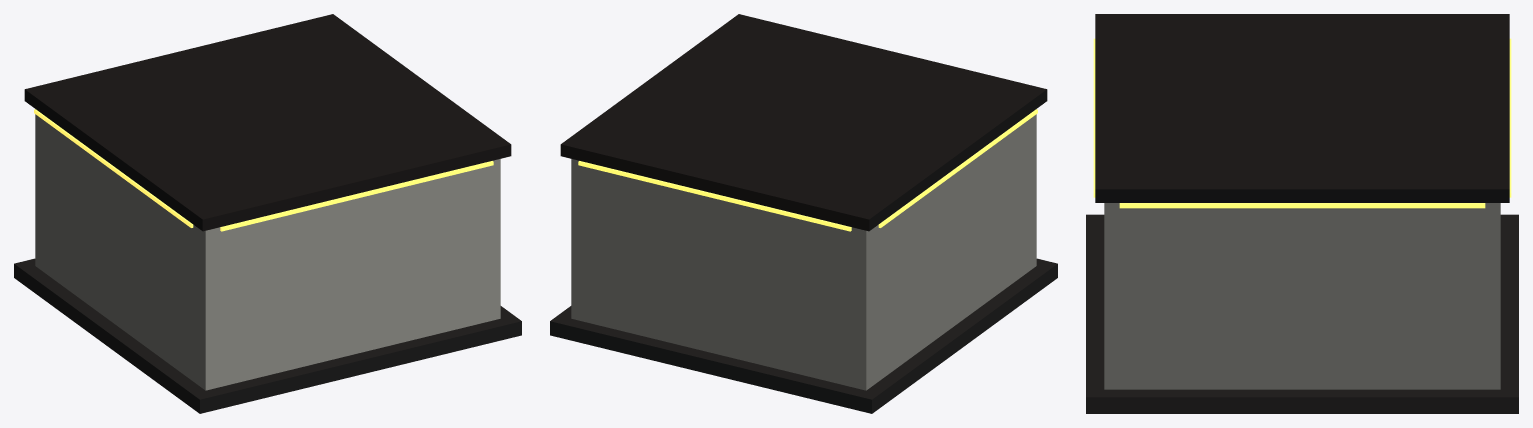
Rendered from display_plinth.glb.
3 renders of one model, left to right at view 1: azimuth 30°, elevation 25°; view 2: azimuth 150°, elevation 25°; view 3: azimuth 270°, elevation 25°, orthographic. The views are drawn at different scales.
Visible parts, largest first — view 1: Plinth; view 2: Plinth; view 3: Plinth.
Boxes of the visible parts, <box> form: Plinth: <box>14,14,521,413</box>; Plinth: <box>550,14,1057,413</box>; Plinth: <box>1086,14,1518,413</box>.
Size of the model in its own units: 1.42 by 0.8 by 1.42.
